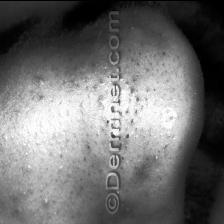Non-Cancerous Skin Condition: (0, 28, 102, 207), (126, 26, 185, 186)
